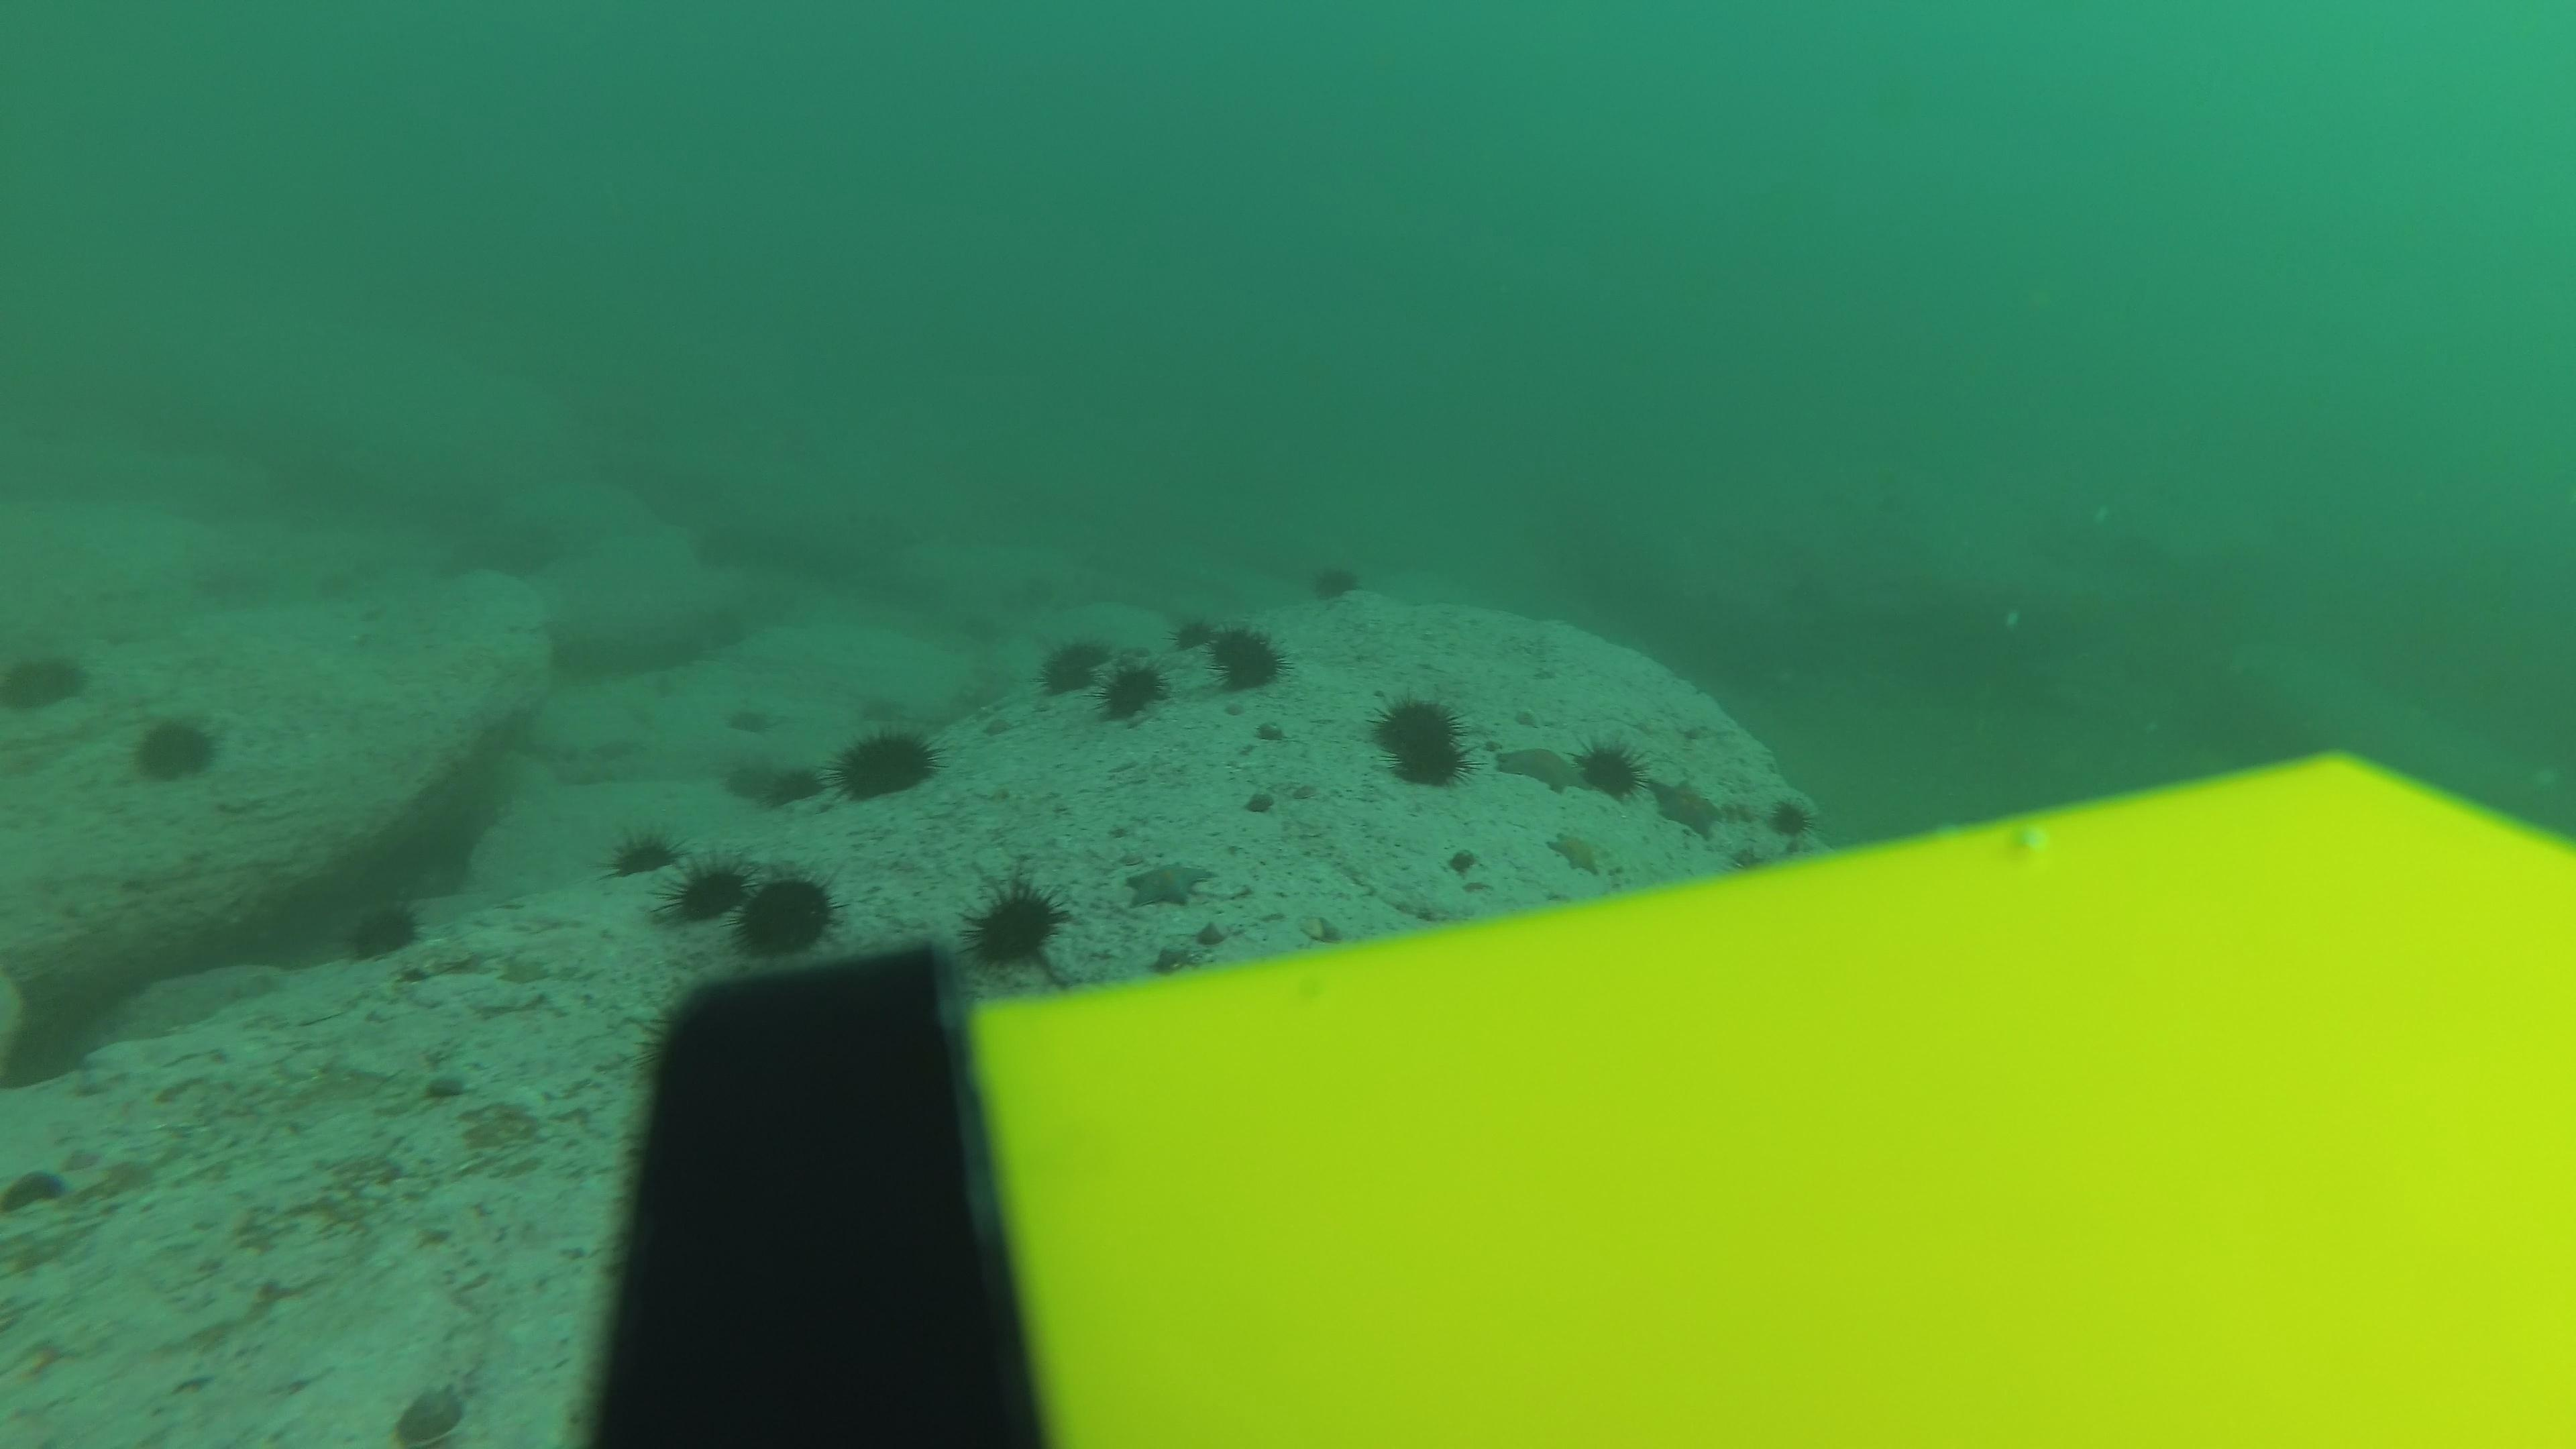echinus: (722, 863, 839, 961), (962, 876, 1070, 973), (833, 720, 941, 805), (129, 708, 223, 786), (1369, 690, 1460, 766), (663, 856, 754, 932), (4, 639, 90, 715), (1203, 617, 1286, 695), (343, 895, 426, 964), (1093, 649, 1166, 727), (1384, 732, 1470, 796), (1573, 732, 1647, 803), (1037, 633, 1109, 701), (607, 824, 678, 879), (1166, 610, 1224, 669), (849, 692, 913, 736), (761, 766, 823, 810), (717, 761, 778, 805), (720, 695, 782, 740), (1766, 794, 1828, 839), (1309, 556, 1362, 605)
starfish: (1481, 740, 1582, 796), (1645, 771, 1725, 840), (1120, 855, 1214, 913), (2, 1162, 69, 1215), (1546, 826, 1610, 878)
